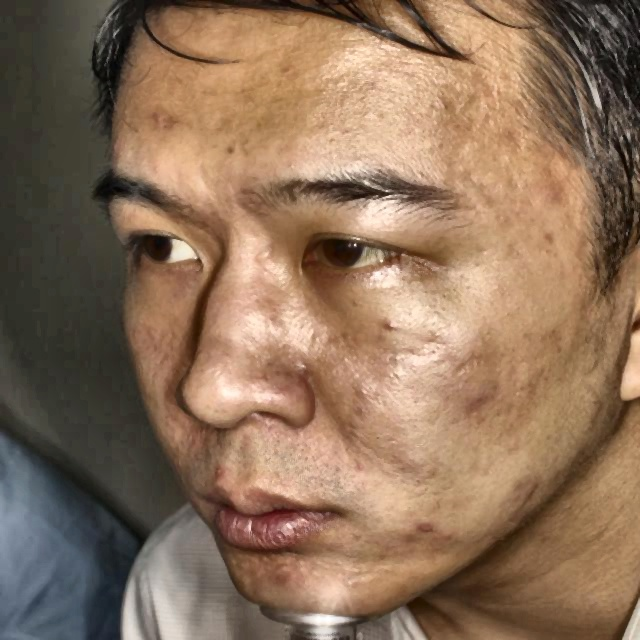comedone: (507, 474, 548, 525), (460, 394, 492, 431), (138, 100, 170, 137), (414, 519, 446, 546), (205, 460, 230, 476)
